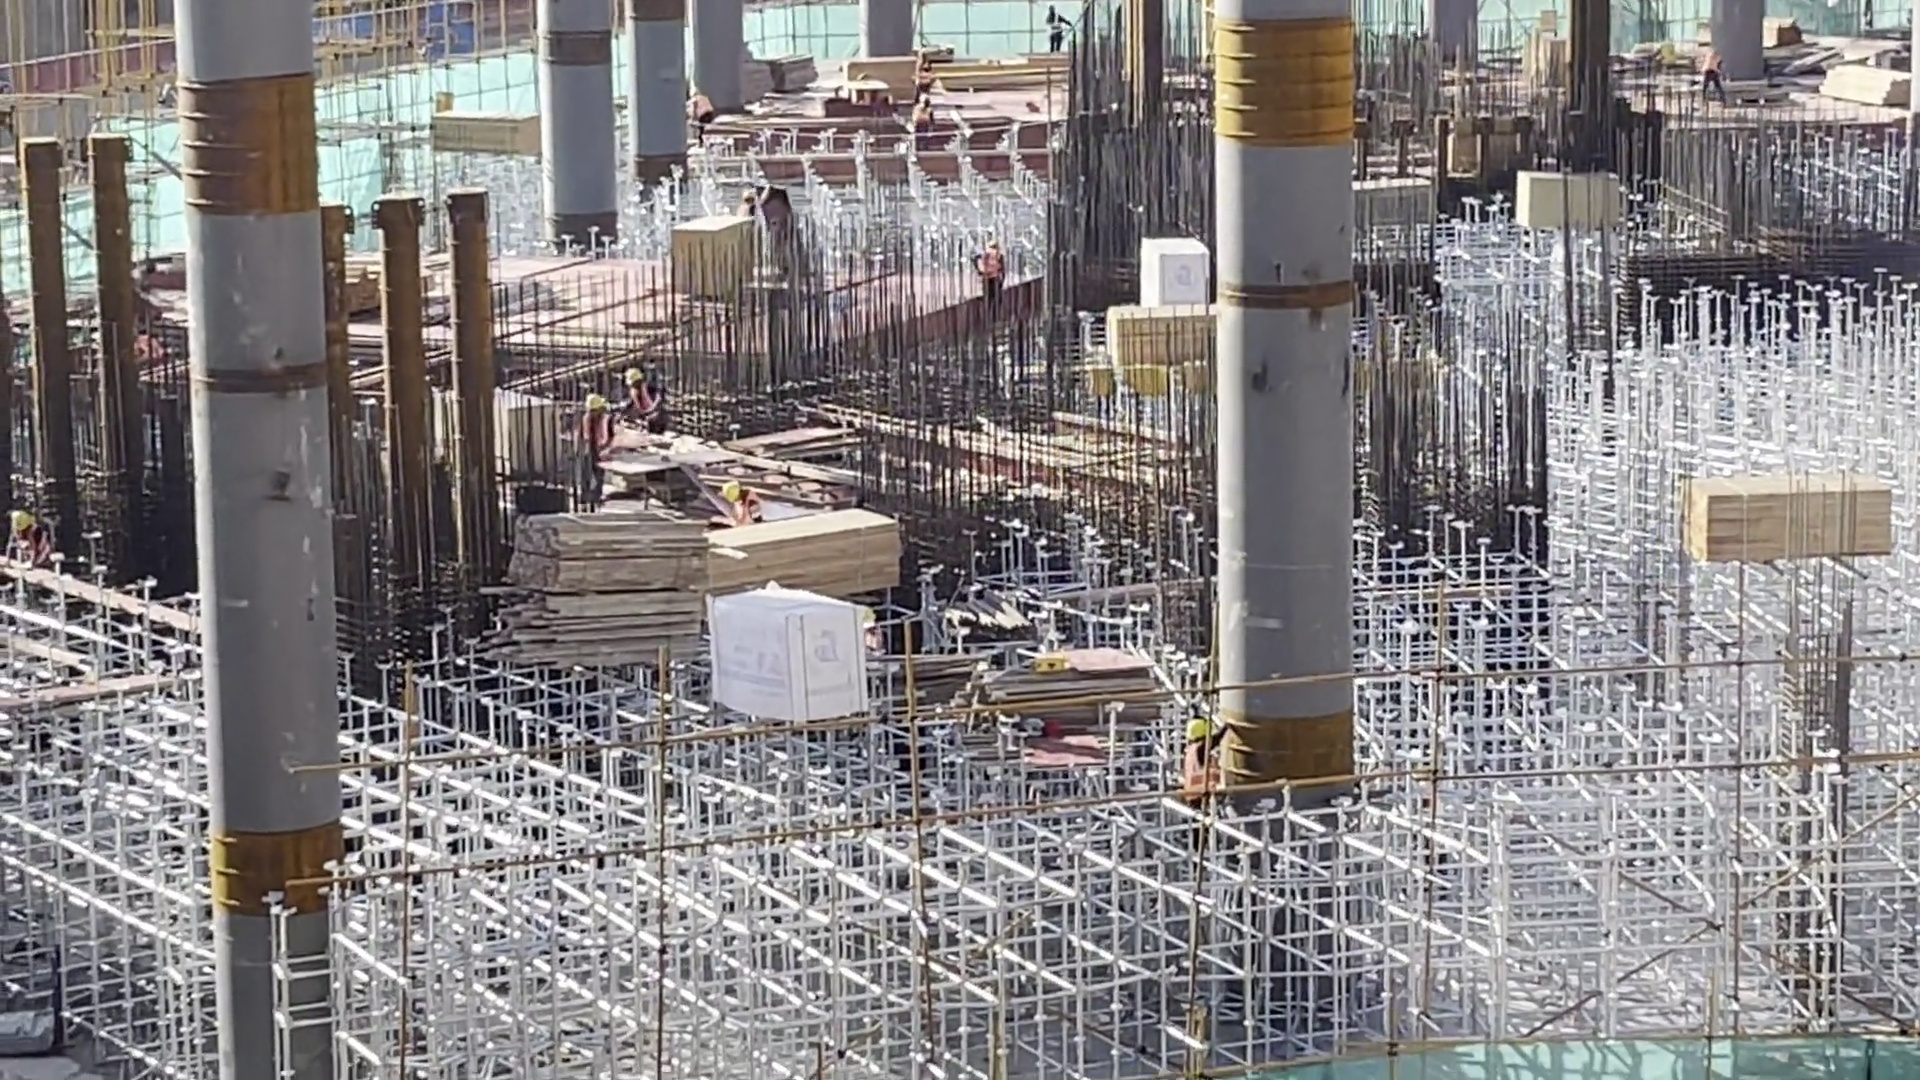board: (982, 642, 1166, 731)
helmet: (8, 510, 33, 534), (1184, 719, 1212, 740), (722, 479, 741, 503), (621, 367, 644, 384), (587, 393, 606, 410)
person: (1179, 717, 1235, 793), (617, 367, 668, 433), (7, 509, 54, 571), (580, 394, 615, 455), (721, 477, 763, 523), (976, 237, 1009, 289), (1043, 4, 1070, 51), (689, 87, 711, 142), (912, 96, 936, 148), (1702, 51, 1726, 103), (914, 50, 936, 100)
vest: (1182, 744, 1222, 794), (582, 413, 611, 455), (629, 385, 663, 421), (735, 492, 763, 524), (980, 249, 1002, 279), (692, 95, 712, 118), (914, 63, 932, 86), (914, 104, 932, 123), (1703, 54, 1720, 73)
wood: (481, 509, 707, 672), (1680, 469, 1899, 565), (710, 506, 906, 594), (1101, 298, 1210, 378), (669, 213, 751, 298), (421, 104, 537, 156), (1812, 57, 1912, 109), (1767, 11, 1802, 53)
